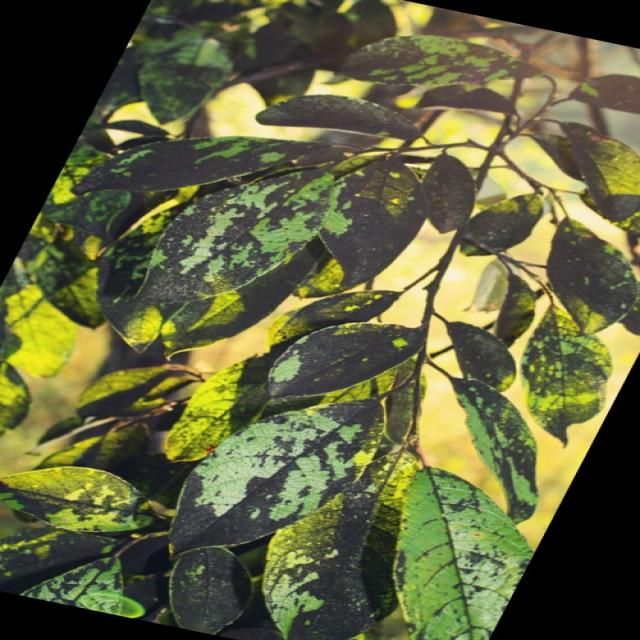Sooty Mold: (4, 7, 636, 638)
